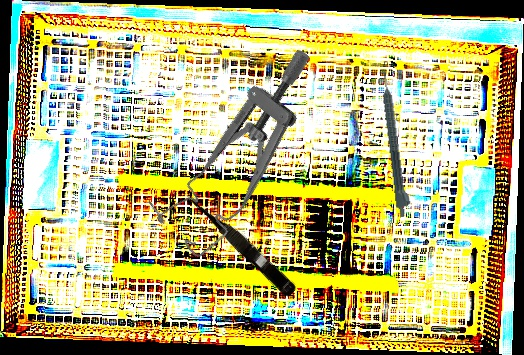Handpiece: (379, 70, 414, 218)
Micro Scissor: (180, 185, 300, 299)
Speculum: (132, 45, 362, 264)
